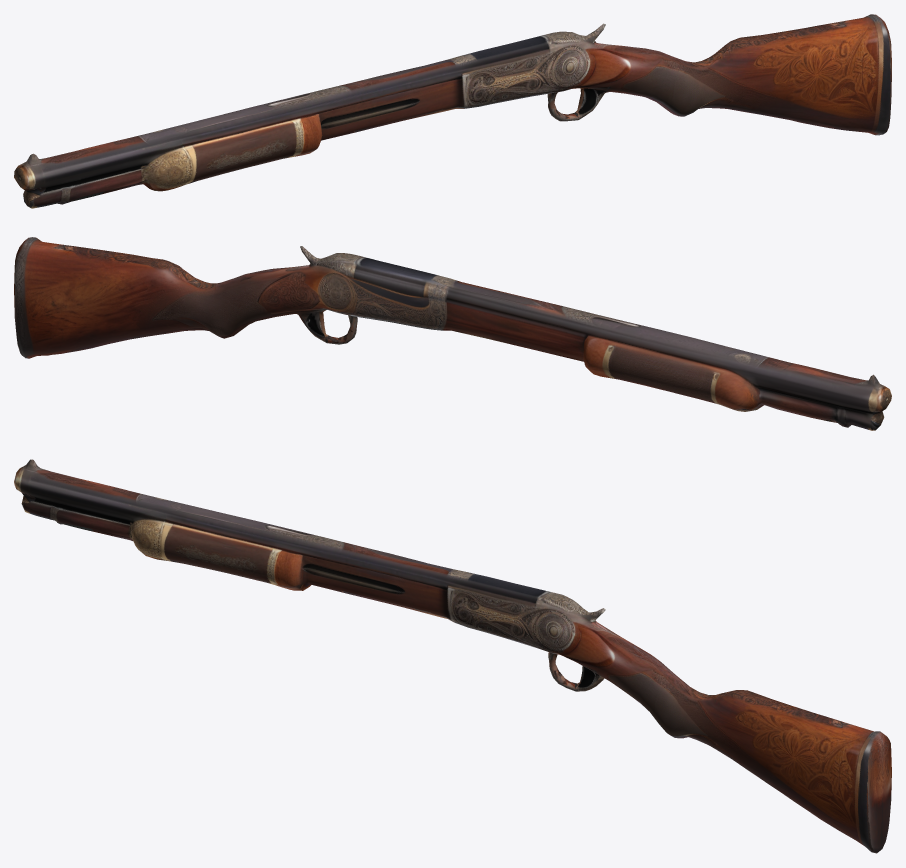
The model's file is WW1_long_Twin_barrel__1121003948_texture.fbx.
3 views of the same model, one above another, from view 1: azimuth 30°, elevation 25°; view 2: azimuth 150°, elevation 25°; view 3: azimuth 330°, elevation 25° (orthographic).
Visible parts, largest first — view 1: input; view 2: input; view 3: input.
Part boxes in pixels (box(x1,y1,x2,y2)): input: box(14, 14, 891, 208); input: box(14, 237, 891, 430); input: box(14, 459, 891, 853).
Bounding box in the file's own units: 201 × 41.57 × 12.96.
Materials: 1 (1 with a texture image).
